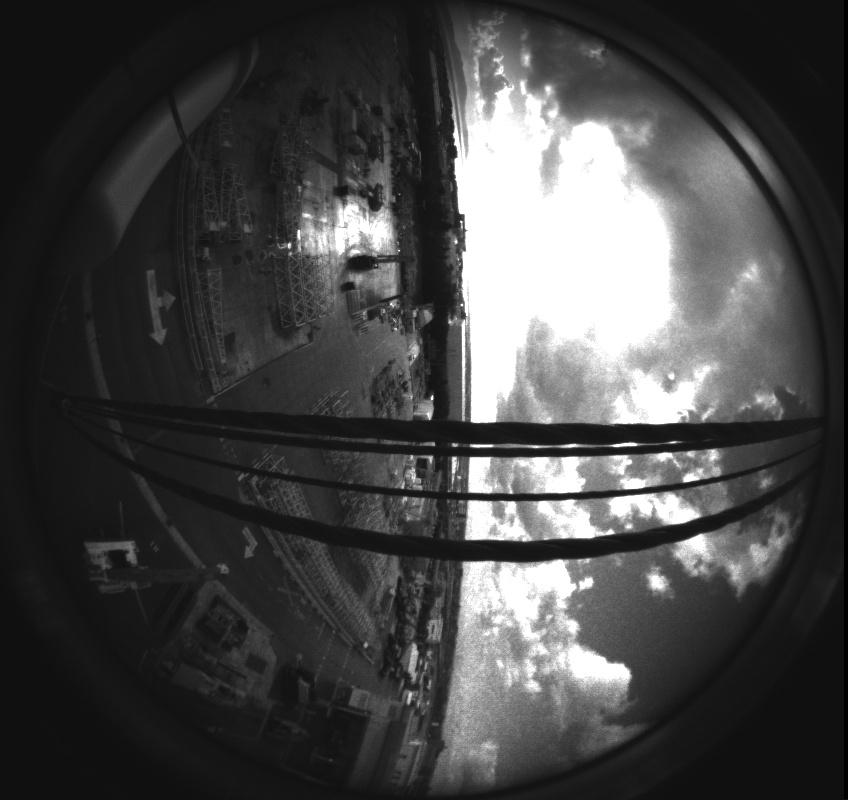rope: (12, 374, 847, 573)
